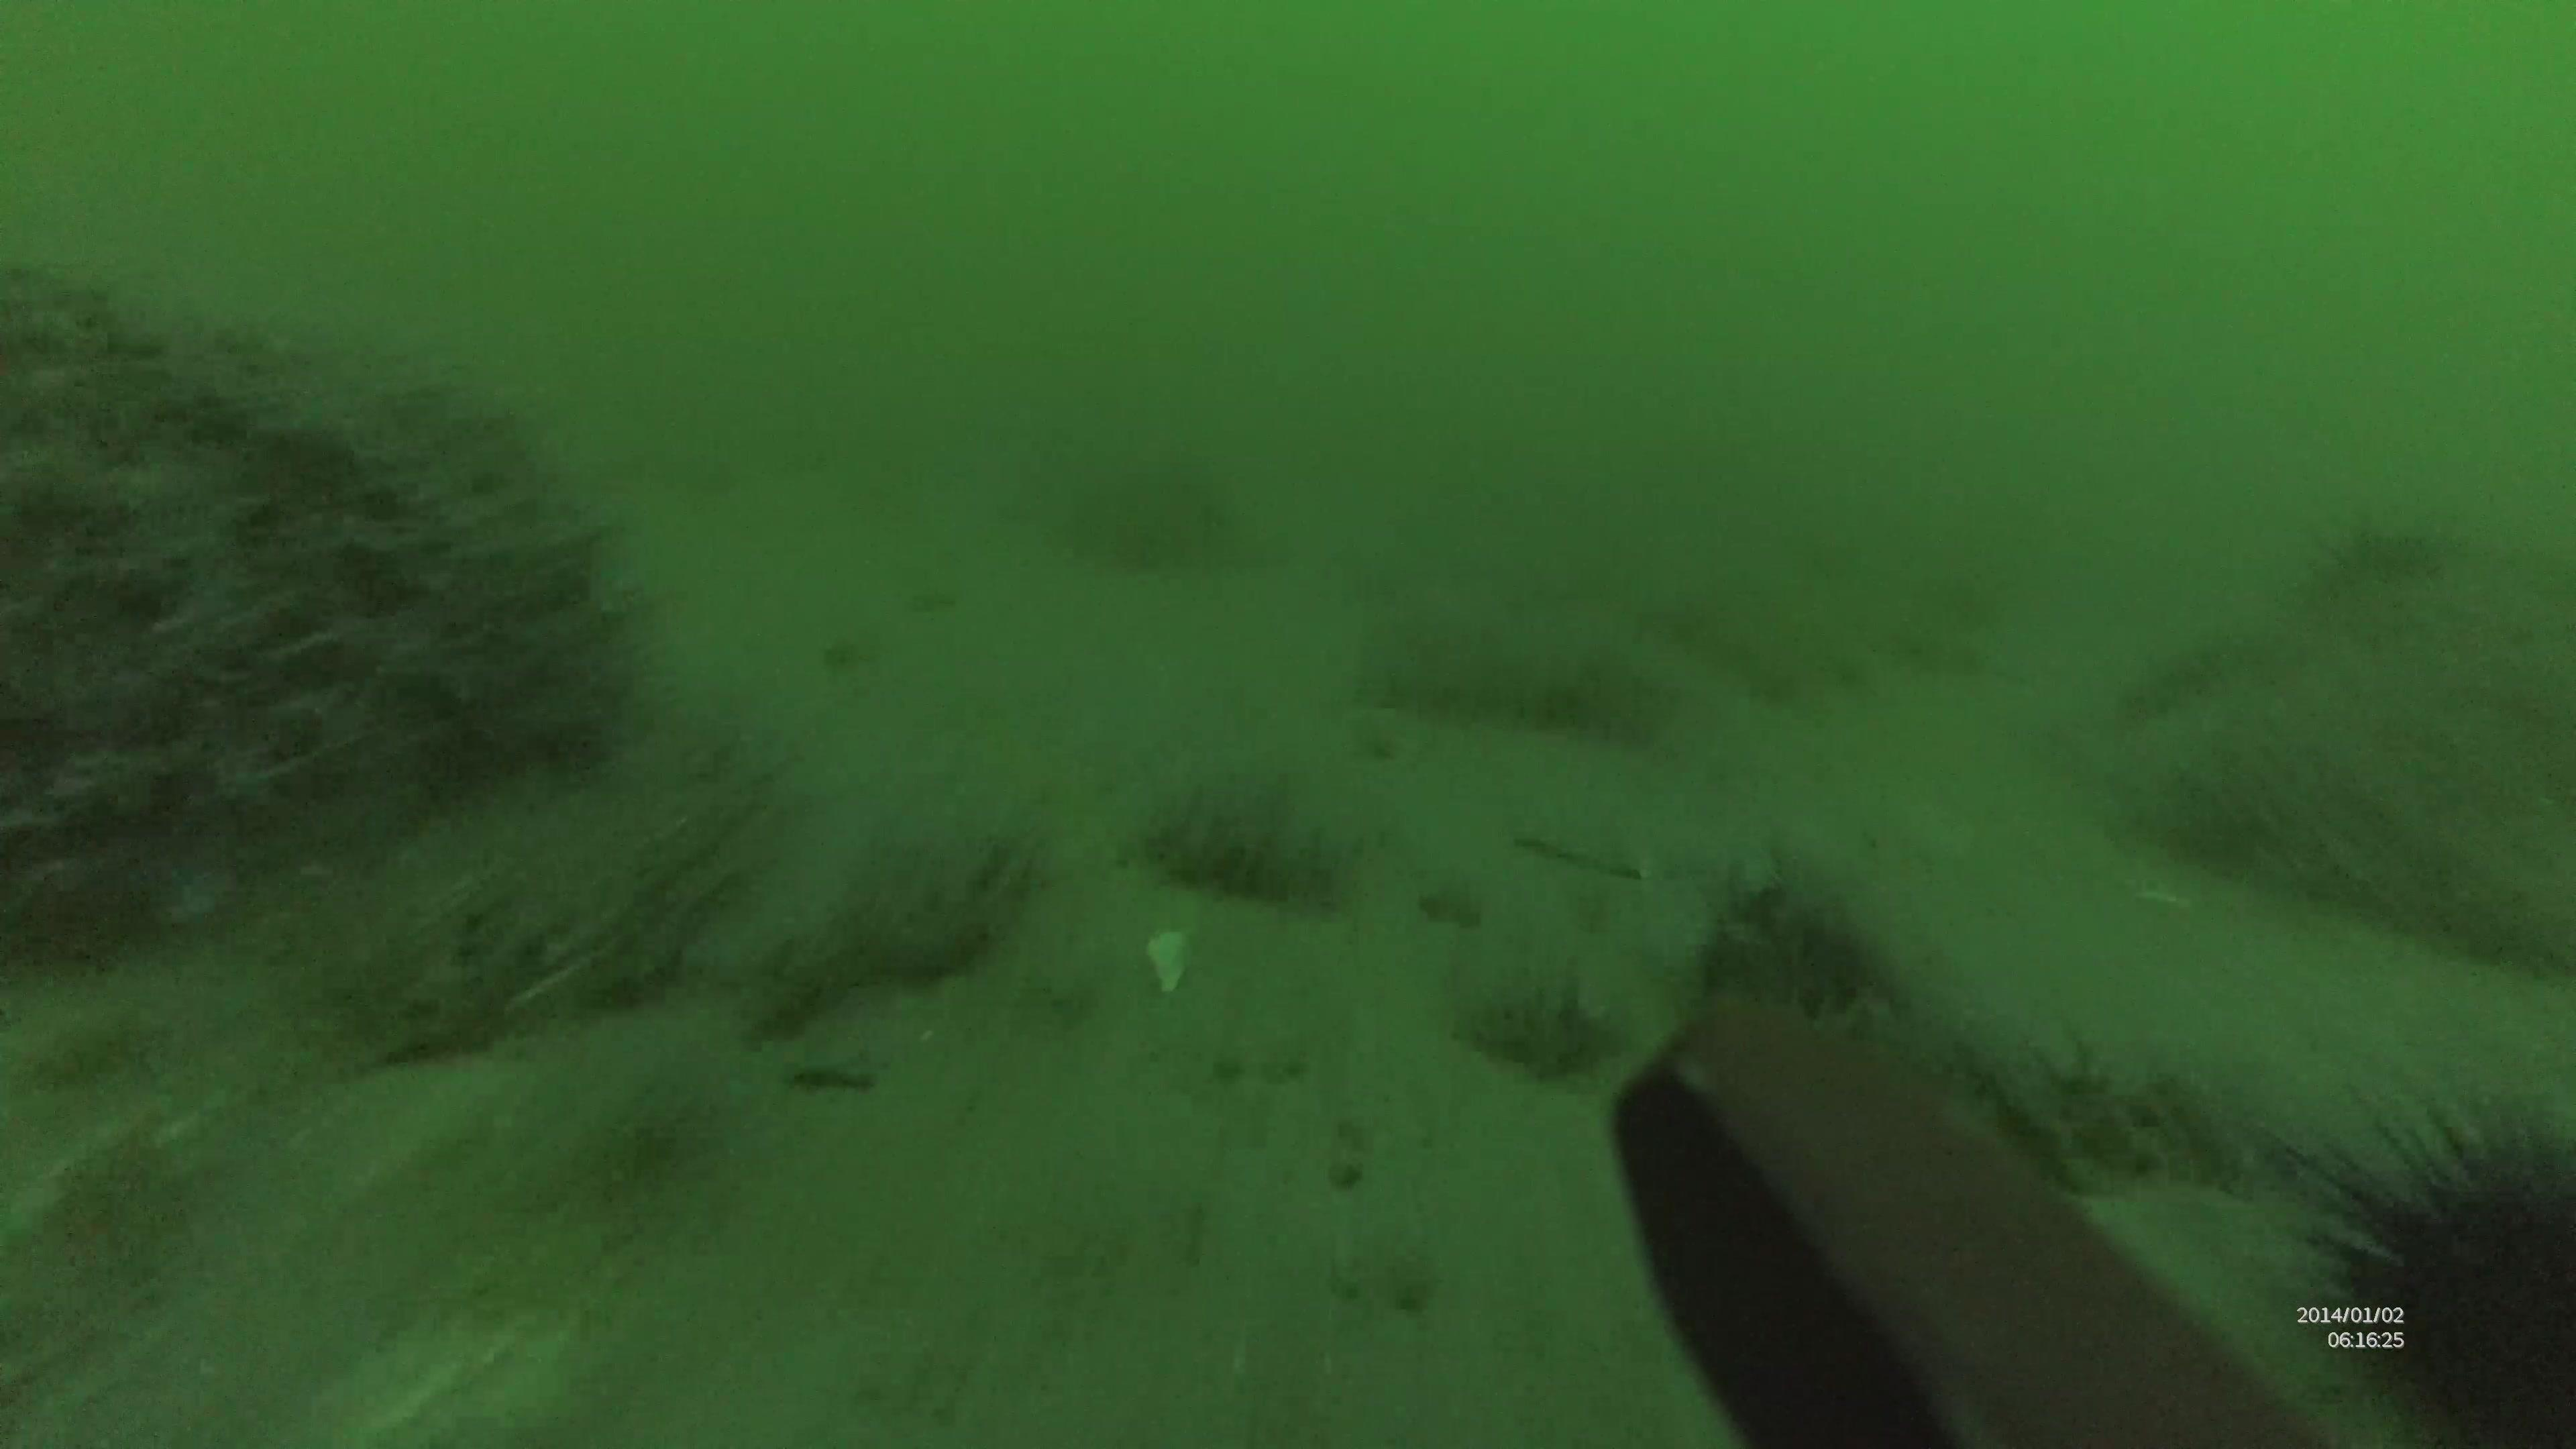echinus: (2281, 1077, 2576, 1449)
